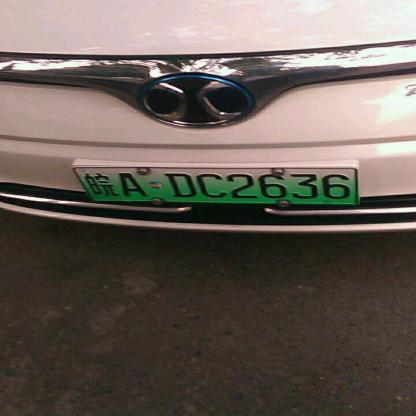lp: (72, 167, 358, 203)
